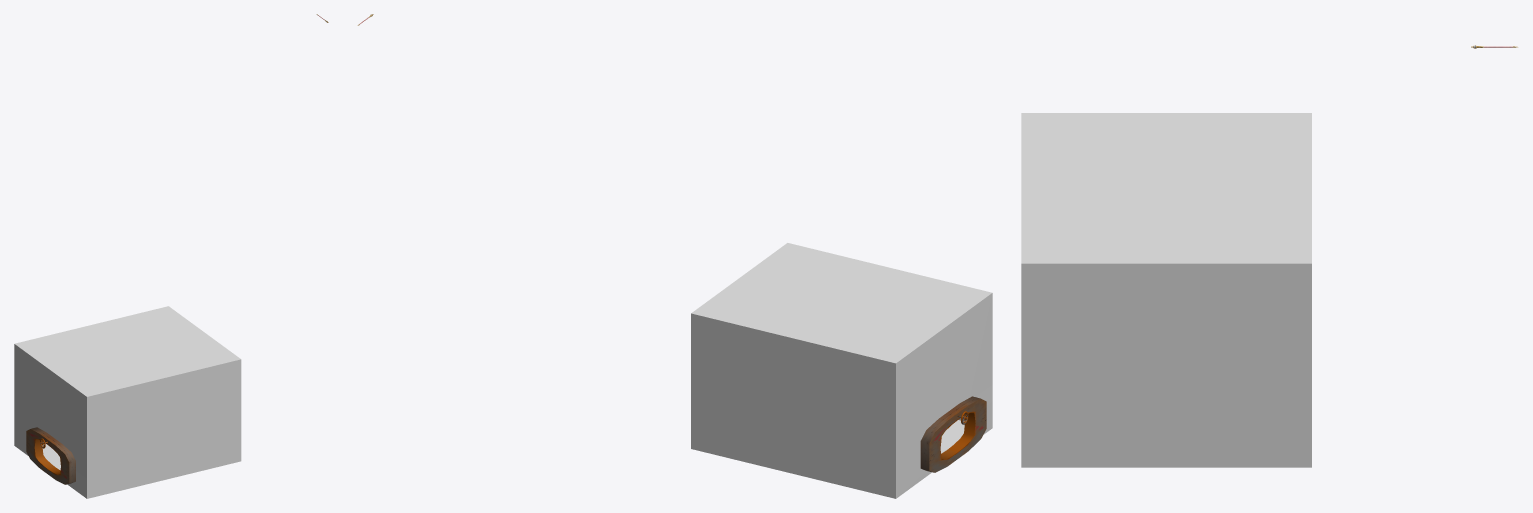
File: Broken_Office.fbx
3 views of the same model, side by side, from view 1: azimuth 30°, elevation 25°; view 2: azimuth 150°, elevation 25°; view 3: azimuth 270°, elevation 25° (orthographic). The views are drawn at different scales.
Visible parts, largest first — view 1: Wall_Broken, Door_Frame; view 2: Wall_Broken, Door_Frame; view 3: Wall_Broken.
Part boxes in pixels (x1,y1,x2,y2): Wall_Broken: (14,306,241,498); Door_Frame: (26,427,75,484); Wall_Broken: (691,243,992,498); Door_Frame: (920,396,986,472); Wall_Broken: (1021,113,1311,467).
Bounding box in the file's own units: 3188 × 2567 × 1873.
7 materials, 5 textured.
